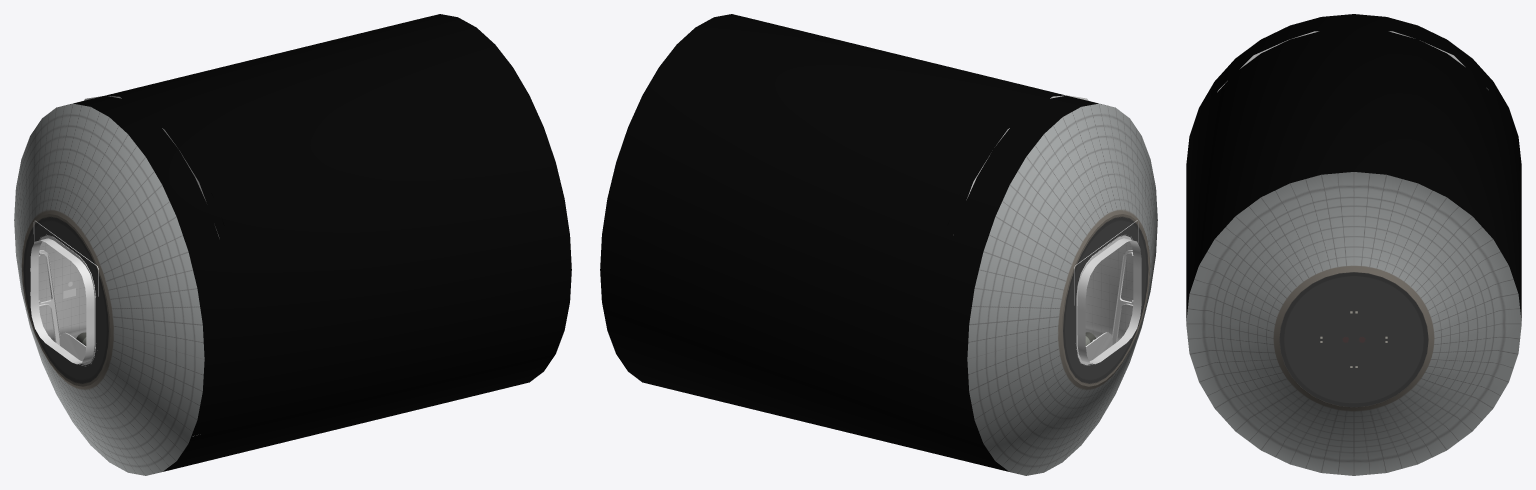
File: PMM.fbx
3 views of the same model, side by side, from view 1: azimuth 30°, elevation 25°; view 2: azimuth 150°, elevation 25°; view 3: azimuth 270°, elevation 25° (orthographic). The views are drawn at different scales.
Visible parts, largest first — view 1: PMM_PressureHull, PMM_AftBulkhead; view 2: PMM_PressureHull, PMM_AftBulkhead; view 3: PMM_PressureHull.
Part boxes in pixels (left/top/right/bottom): PMM_PressureHull: left=14, top=14, right=571, bottom=475; PMM_AftBulkhead: left=33, top=95, right=219, bottom=436; PMM_PressureHull: left=600, top=14, right=1157, bottom=475; PMM_AftBulkhead: left=966, top=95, right=1138, bottom=349; PMM_PressureHull: left=1186, top=14, right=1521, bottom=475.
Bounding box in the file's own units: 6004 × 4353 × 4353.
5 materials, 3 textured.
